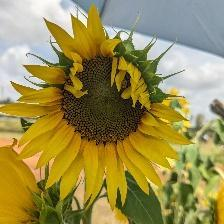sunflower: (1, 4, 199, 213)
